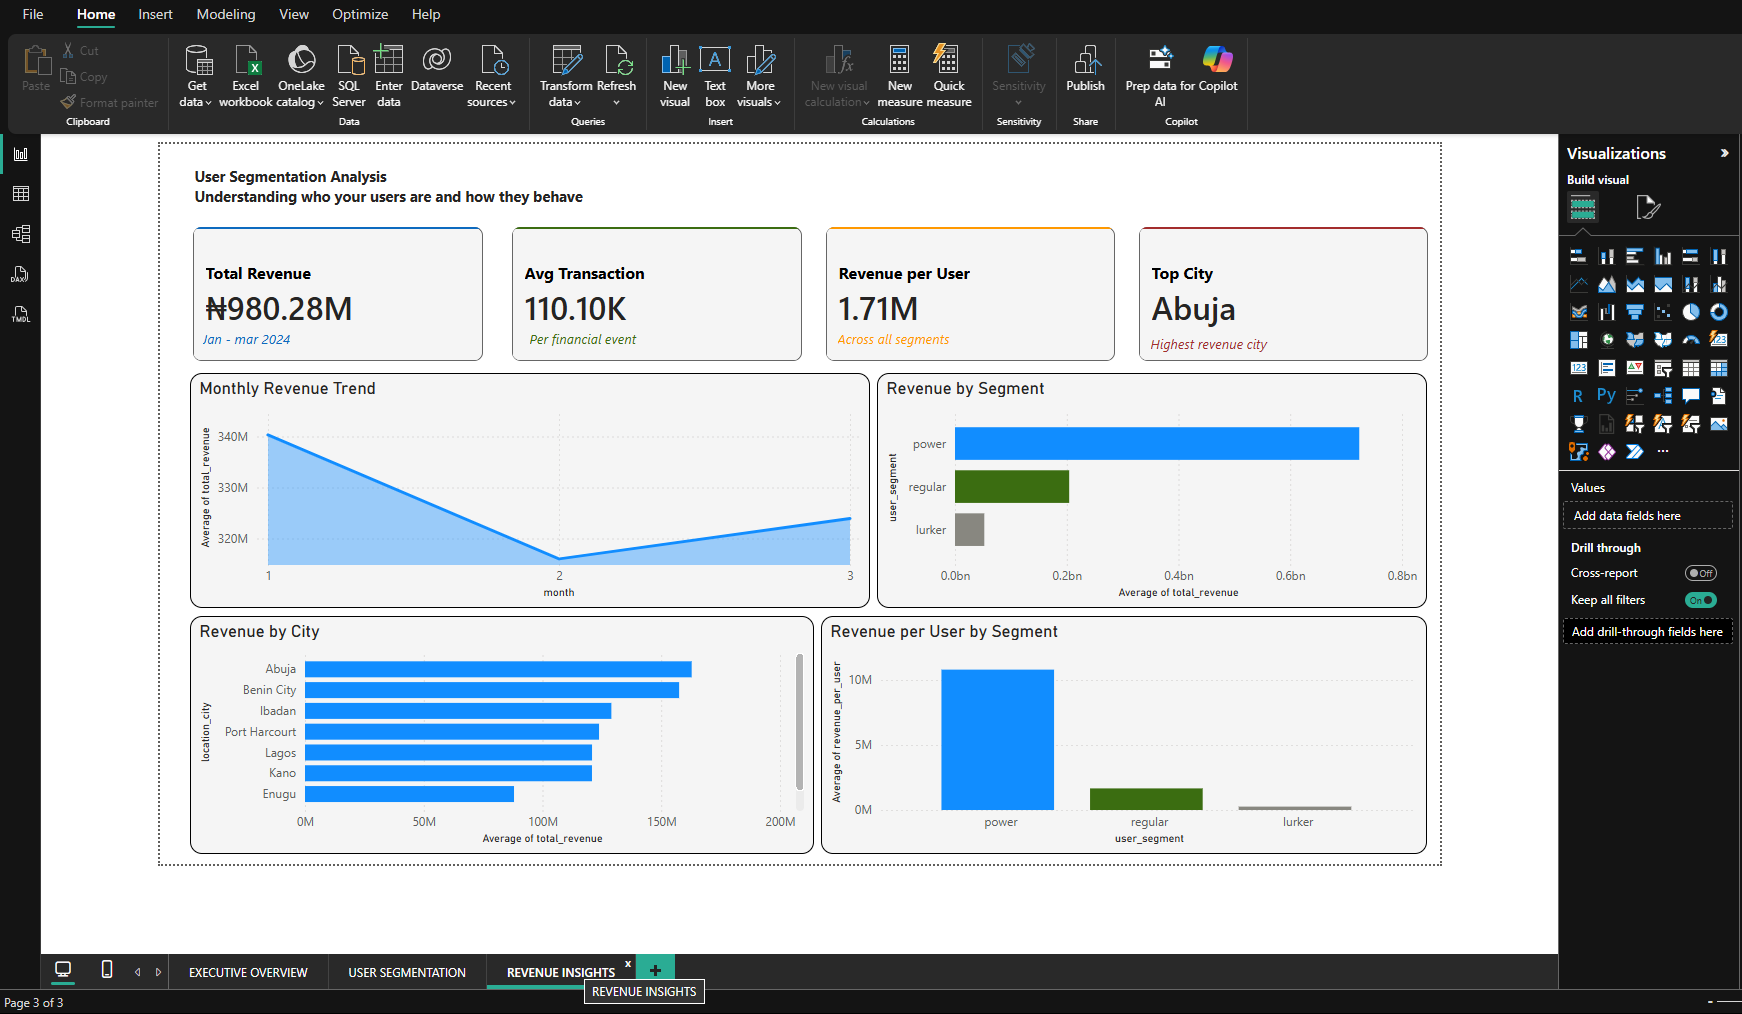

This screenshot's page, from the dashboard's own definition file:
{"tool":"powerbi","page":{"name":"REVENUE INSIGHTS","canvas":[1280,720],"ordinal":2},"visuals":[{"type":"cardVisual","fields":{"Data":["dau_metrics.Total Revenue"]},"box":[21.4,71,313.2,157.6],"z":0},{"type":"textbox","box":[30.2,16.5,650.7,65.2],"z":1000},{"type":"textbox","box":[37.9,180.9,175.1,30.2],"z":4000},{"type":"areaChart","title":"Monthly Revenue Trend","fields":{"Category":["revenue_month.month"],"Y":["Avg(revenue_month.total_revenue)"]},"box":[30.2,228.6,679.9,235.4],"z":7000},{"type":"clusteredBarChart","title":"Revenue by City","fields":{"Category":["revenue_city.location_city"],"Y":["Avg(revenue_city.total_revenue)"]},"box":[30.2,471.7,623.5,238.3],"z":8000},{"type":"clusteredBarChart","title":"Revenue by Segment","fields":{"Category":["revenue_segment.user_segment"],"Y":["Avg(revenue_segment.total_revenue)"]},"box":[716.8,228.6,550.5,235.4],"z":9000},{"type":"clusteredColumnChart","title":"Revenue per User by Segment","fields":{"Y":["Avg(revenue_segment.revenue_per_user)"],"Category":["revenue_segment.user_segment"]},"box":[661.4,471.7,606,238.3],"z":10000},{"type":"cardVisual","fields":{"Data":["dau_metrics.Avg Transaction"]},"box":[340.4,71,313.2,157.6],"z":10002},{"type":"cardVisual","fields":{"Data":["user_lifecycle.Revenue per User"]},"box":[653.6,71,313.2,157.6],"z":10003},{"type":"cardVisual","fields":{"Data":["dau_metrics.Top City"]},"box":[966.8,71,313.2,157.6],"z":10004},{"type":"textbox","box":[364.7,180.9,181.9,37],"z":10005},{"type":"textbox","box":[673.1,180.9,195.5,30.2],"z":10006},{"type":"textbox","box":[986.3,185.8,168.3,32.1],"z":10007}]}

Visuals, with their boxes on the page's 1280x720 design canvas (x1, y1, x2, y2). These are canvas units, not pixel positions in the 1742x1014 screenshot, which may show the page scaled, cropped or inside an application window:
cardVisual - dau_metrics.Total Revenue: detection(21, 71, 335, 229)
textbox: detection(30, 16, 681, 82)
textbox: detection(38, 181, 213, 211)
"Monthly Revenue Trend" areaChart: detection(30, 229, 710, 464)
"Revenue by City" clusteredBarChart: detection(30, 472, 654, 710)
"Revenue by Segment" clusteredBarChart: detection(717, 229, 1267, 464)
"Revenue per User by Segment" clusteredColumnChart: detection(661, 472, 1267, 710)
cardVisual - dau_metrics.Avg Transaction: detection(340, 71, 654, 229)
cardVisual - user_lifecycle.Revenue per User: detection(654, 71, 967, 229)
cardVisual - dau_metrics.Top City: detection(967, 71, 1280, 229)
textbox: detection(365, 181, 547, 218)
textbox: detection(673, 181, 869, 211)
textbox: detection(986, 186, 1155, 218)
